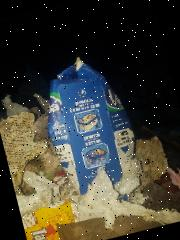paper: (32, 47, 148, 210), (0, 92, 54, 194)
